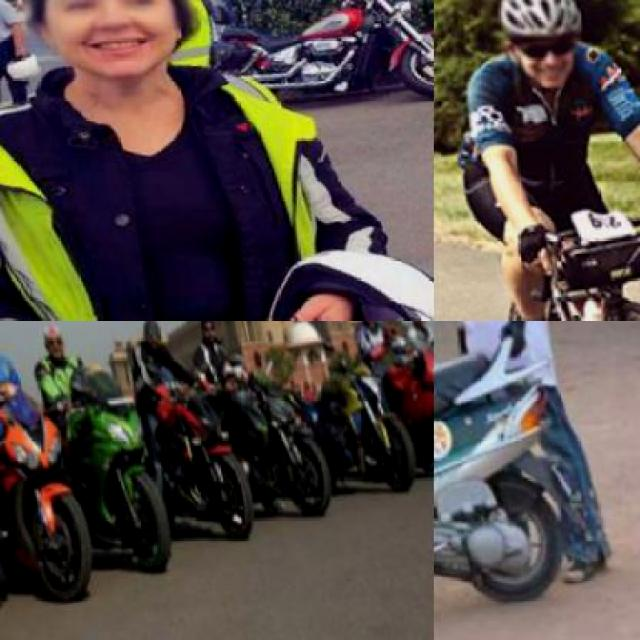With Helmet: (475, 0, 595, 92)
Without Helmet: (9, 0, 203, 57), (39, 320, 66, 357), (137, 320, 166, 346), (194, 320, 221, 343)
